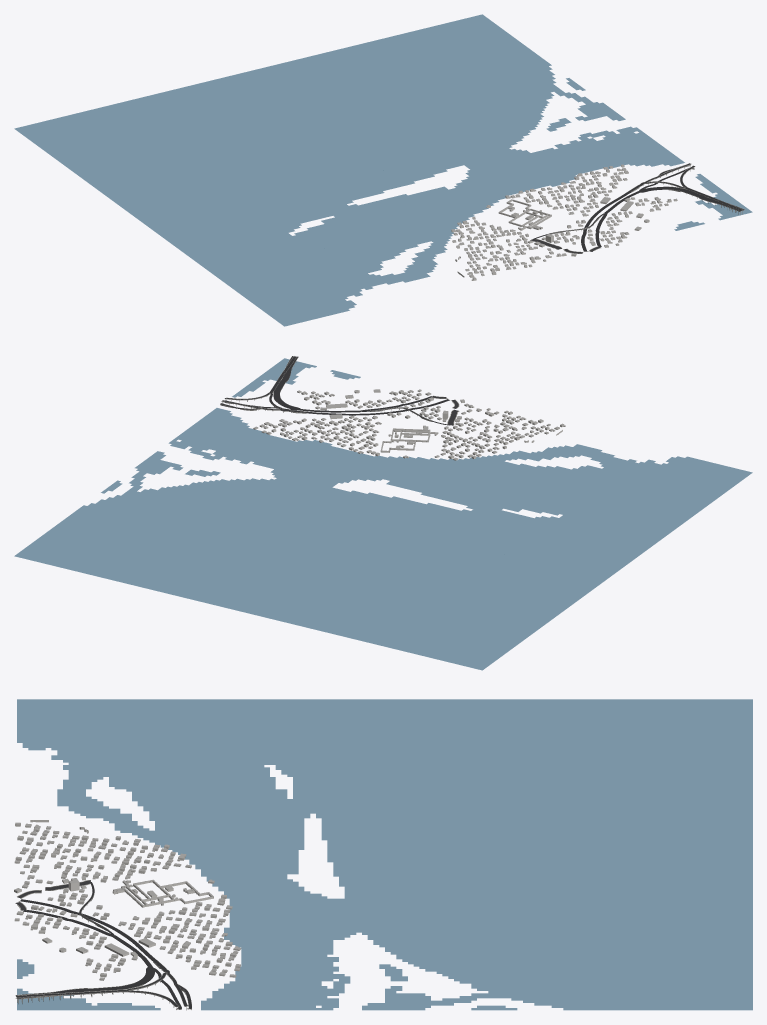
The model's file is chunk_4_2.glb.
The picture shows the model from 3 angles, top to bottom: view 1: azimuth 30°, elevation 25°; view 2: azimuth 150°, elevation 25°; view 3: azimuth 270°, elevation 25°; orthographic projection. The views are drawn at different scales.
Parts seen in each view (by area): view 1: Water_4_2, Filler_4_2, Roads_4_2, RoadSides_4_2, Buildings_4_2; view 2: Water_4_2, Filler_4_2, Roads_4_2, Buildings_4_2, RoadSides_4_2; view 3: Water_4_2, Filler_4_2, Roads_4_2, Buildings_4_2, RoadSides_4_2.
Part boxes in pixels (<box>): Water_4_2: <box>14,14,752,326</box>; Filler_4_2: <box>451,164,677,280</box>; Roads_4_2: <box>531,163,743,253</box>; RoadSides_4_2: <box>530,163,744,253</box>; Buildings_4_2: <box>455,199,649,277</box>; Water_4_2: <box>14,358,752,670</box>; Filler_4_2: <box>253,389,565,460</box>; Roads_4_2: <box>220,356,458,425</box>; Buildings_4_2: <box>345,389,562,452</box>; RoadSides_4_2: <box>220,356,459,425</box>; Water_4_2: <box>17,699,752,1010</box>; Filler_4_2: <box>14,822,241,980</box>; Roads_4_2: <box>15,880,191,1009</box>; Buildings_4_2: <box>30,820,213,953</box>; RoadSides_4_2: <box>15,880,191,1010</box>.
Bounding box in the file's own units: 2052 × 25.76 × 2056.
